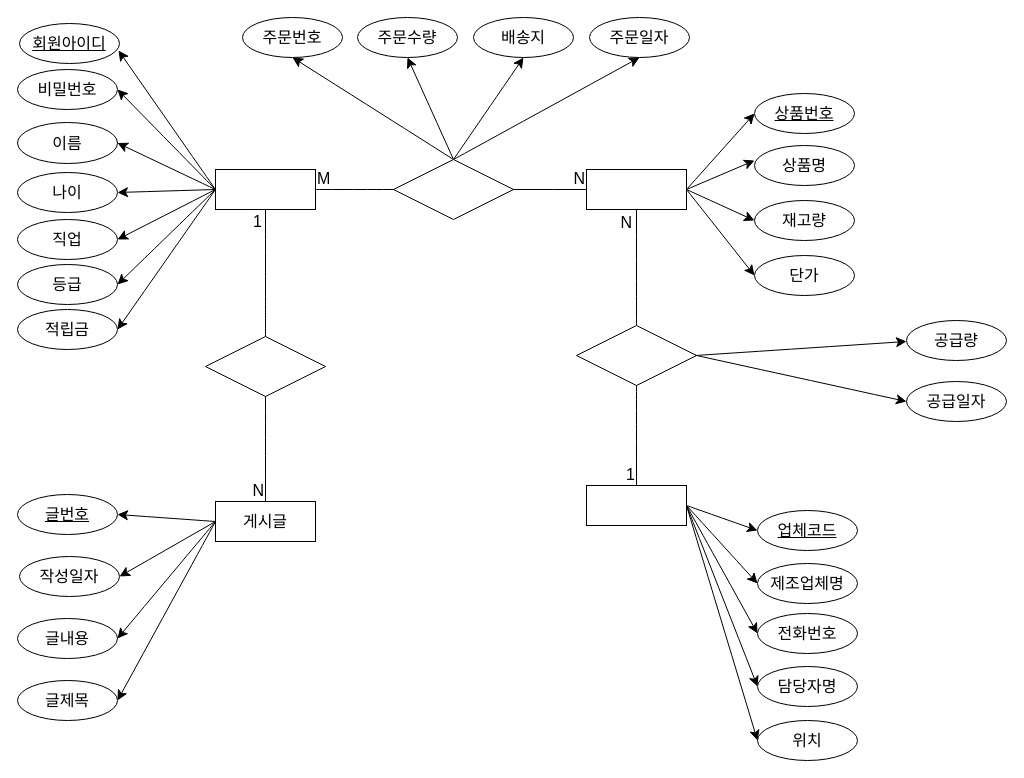
Image size: 1024x778. Some labels were removed from this diagram. Here are the shapes that lost their labels. From the top down, the box of each, then its label:
(214, 168, 316, 210): 회원
(392, 158, 514, 220): 주문
(586, 168, 686, 210): 상품
(204, 336, 326, 396): 작성
(576, 324, 696, 386): 공급
(586, 484, 686, 526): 제조업체
